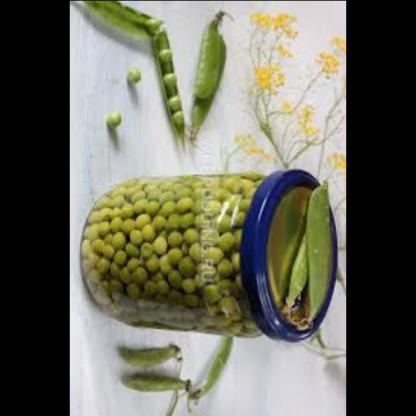peas: (88, 171, 265, 338), (270, 179, 346, 325), (179, 16, 233, 150), (160, 1, 186, 169), (114, 346, 190, 400), (192, 332, 244, 410), (85, 0, 167, 36), (118, 62, 145, 94), (105, 106, 128, 133)
